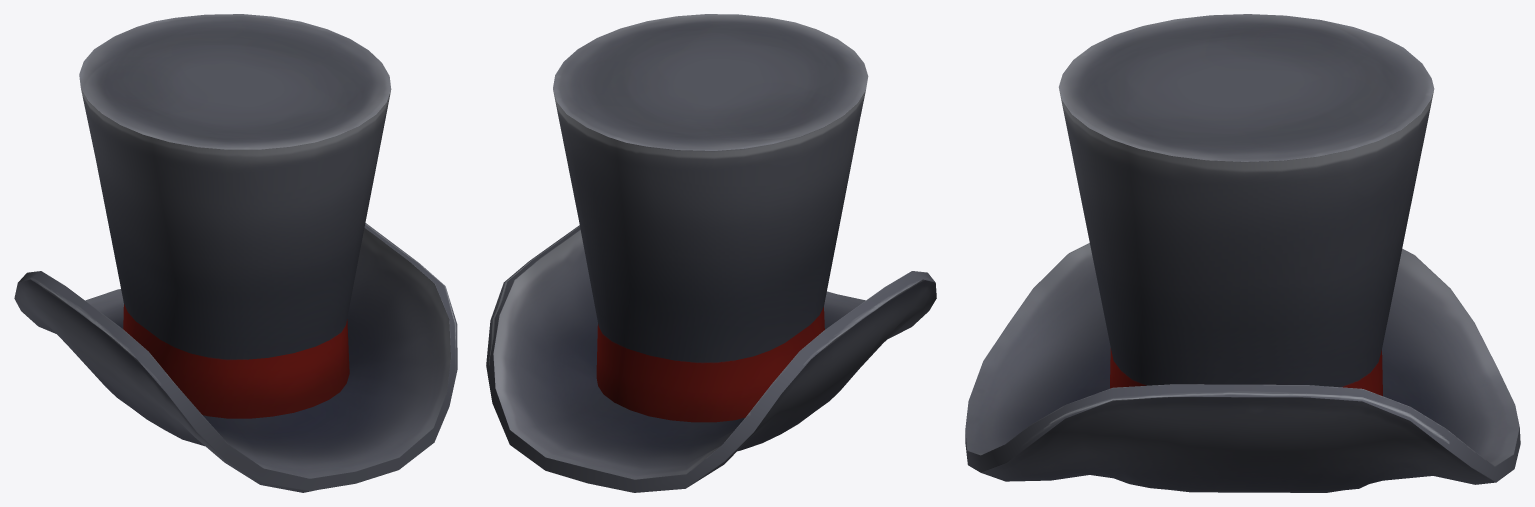
File: Hat4.glb
The picture shows the model from 3 angles, left to right: view 1: azimuth 30°, elevation 25°; view 2: azimuth 150°, elevation 25°; view 3: azimuth 270°, elevation 25°; orthographic projection. The views are drawn at different scales.
Parts seen in each view (by area): view 1: Hat4; view 2: Hat4; view 3: Hat4.
Part boxes in pixels (left/top/right/bottom): Hat4: left=14, top=14, right=457, bottom=492; Hat4: left=486, top=14, right=936, bottom=492; Hat4: left=965, top=14, right=1520, bottom=492.
Bounding box in the file's own units: 0.1075 × 0.1075 × 0.1464.
1 material, 1 textured.
